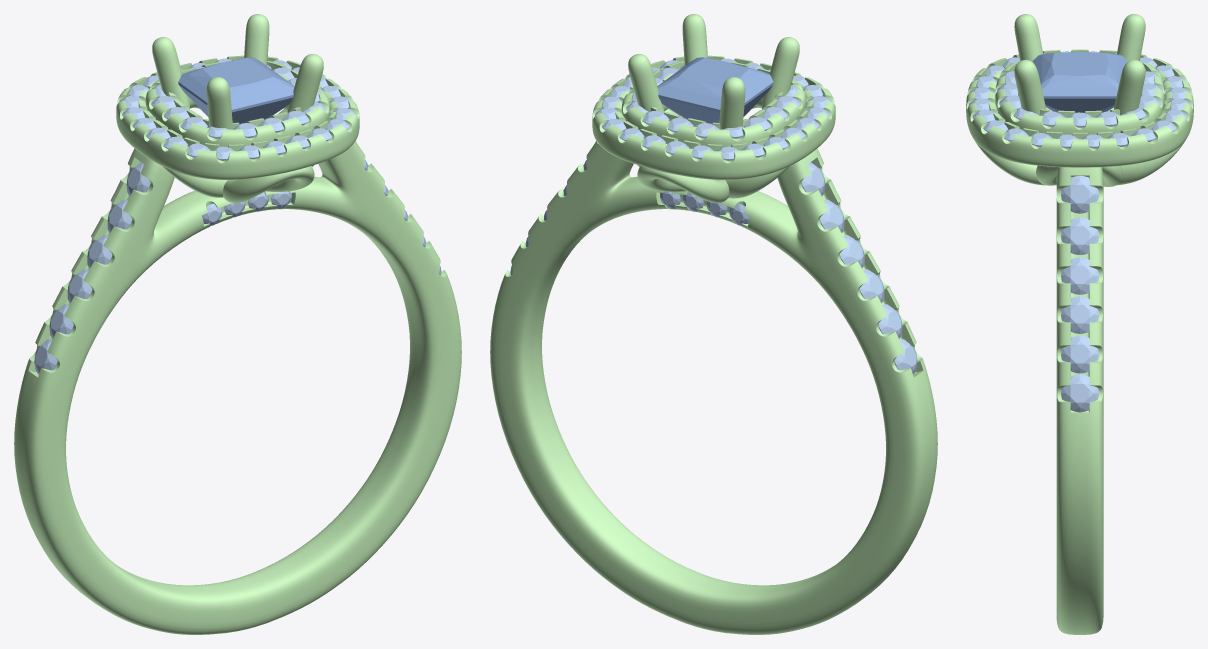
3 renders of one model, left to right at view 1: azimuth 30°, elevation 25°; view 2: azimuth 150°, elevation 25°; view 3: azimuth 270°, elevation 25°, orthographic.
Parts seen in each view (by area): view 1: ER- 0168.3dm, Diamond_Princess; view 2: ER- 0168.3dm, Diamond_Princess; view 3: ER- 0168.3dm, Diamond_Round (×6), Diamond_Princess.
Boxes of the visible parts, x1=… form: ER- 0168.3dm: x1=14, y1=14, x2=461, y2=634; Diamond_Princess: x1=178, y1=57, x2=294, y2=124; ER- 0168.3dm: x1=490, y1=14, x2=937, y2=634; Diamond_Princess: x1=657, y1=57, x2=773, y2=124; ER- 0168.3dm: x1=966, y1=14, x2=1193, y2=634; Diamond_Round (×6): x1=1061, y1=175, x2=1098, y2=412; Diamond_Princess: x1=1032, y1=52, x2=1127, y2=112.
Bounding box in the file's own units: 2.38 × 3.03 × 1.09.
